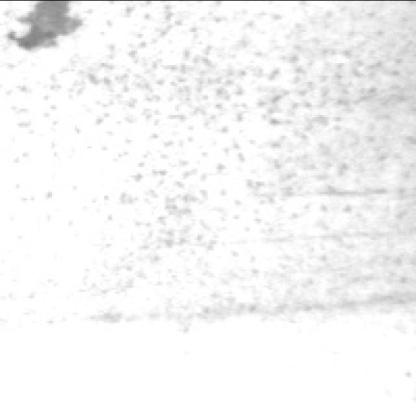patches: (6, 2, 77, 58)
pitted_surface: (60, 11, 406, 324)
